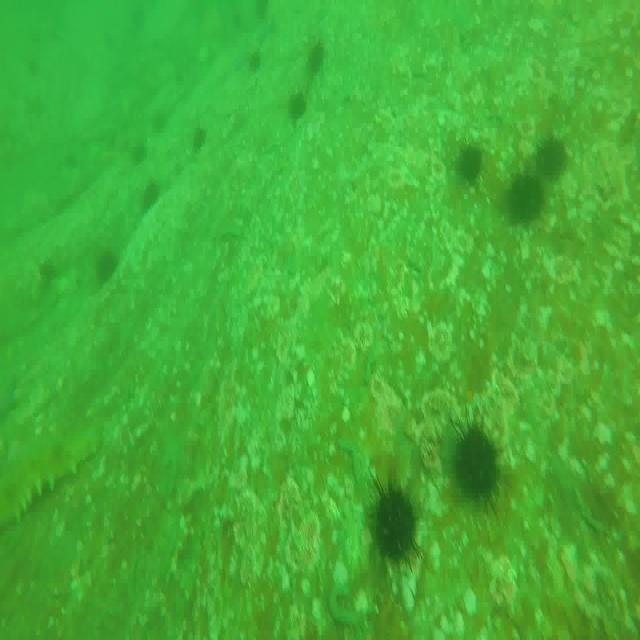echinus: (372, 479, 422, 567), (456, 421, 500, 508), (506, 172, 545, 227), (540, 129, 570, 187), (456, 143, 484, 187), (94, 253, 116, 289), (308, 39, 327, 75), (288, 91, 311, 118), (190, 120, 208, 153), (152, 109, 172, 134), (142, 182, 159, 211), (248, 49, 264, 73), (132, 142, 148, 162)
holothurian: (0, 429, 101, 534)
